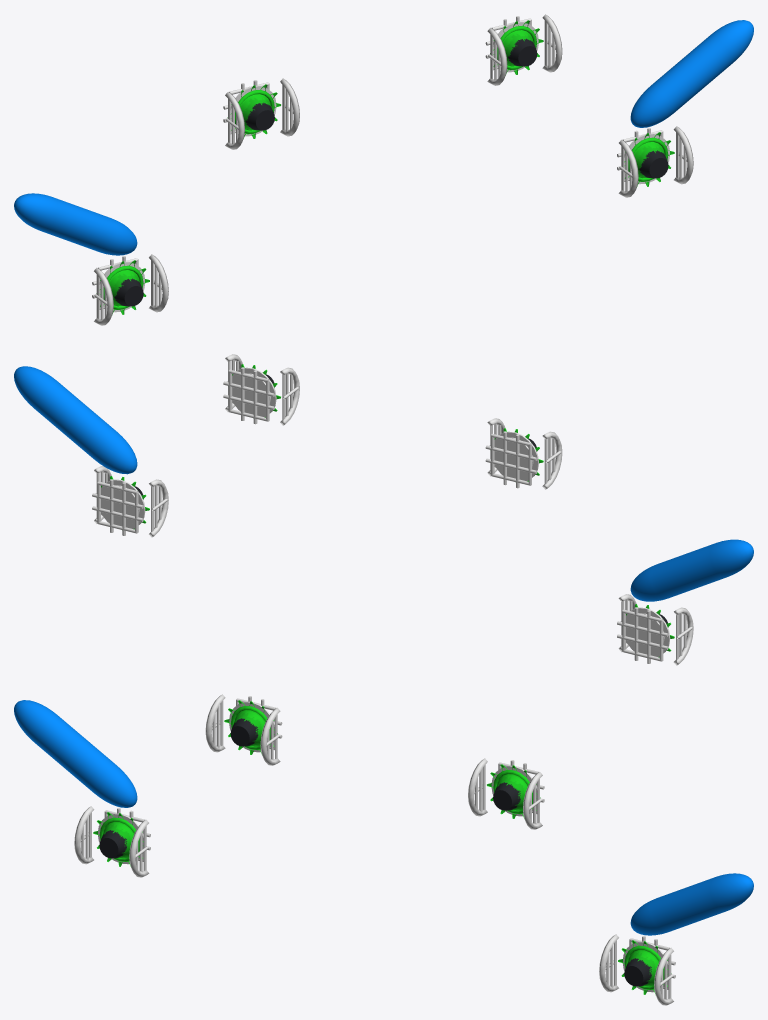
File: GameplayType2.fbx
3 views of the same model, one above another, from view 1: azimuth 30°, elevation 25°; view 2: azimuth 150°, elevation 25°; view 3: azimuth 330°, elevation 25° (orthographic).
Parts seen in each view (by area): view 1: WallLeft, WallRight, Black (×4), Anta_Right (×4), Anta_Left (×4); view 2: WallLeft, WallRight, Anta_Left (×4), Black (×4); view 3: WallRight, WallLeft, Black (×4), Anta_Left (×4), Anta_Right (×4).
Boxes of the visible parts, <box> form: WallLeft: <box>630,20,753,127</box>; WallRight: <box>14,193,137,255</box>; Black (×4): <box>109,30,668,306</box>; Anta_Right (×4): <box>149,14,693,312</box>; Anta_Left (×4): <box>94,27,638,325</box>; WallLeft: <box>14,366,137,474</box>; WallRight: <box>630,539,753,601</box>; Anta_Left (×4): <box>149,367,693,665</box>; Black (×4): <box>101,373,664,653</box>; WallRight: <box>14,700,137,807</box>; WallLeft: <box>630,873,753,935</box>; Black (×4): <box>99,710,658,986</box>; Anta_Left (×4): <box>74,694,618,992</box>; Anta_Right (×4): <box>129,707,673,1005</box>.
Bounding box in the file's own units: 23.61 × 6.12 × 1.51.
